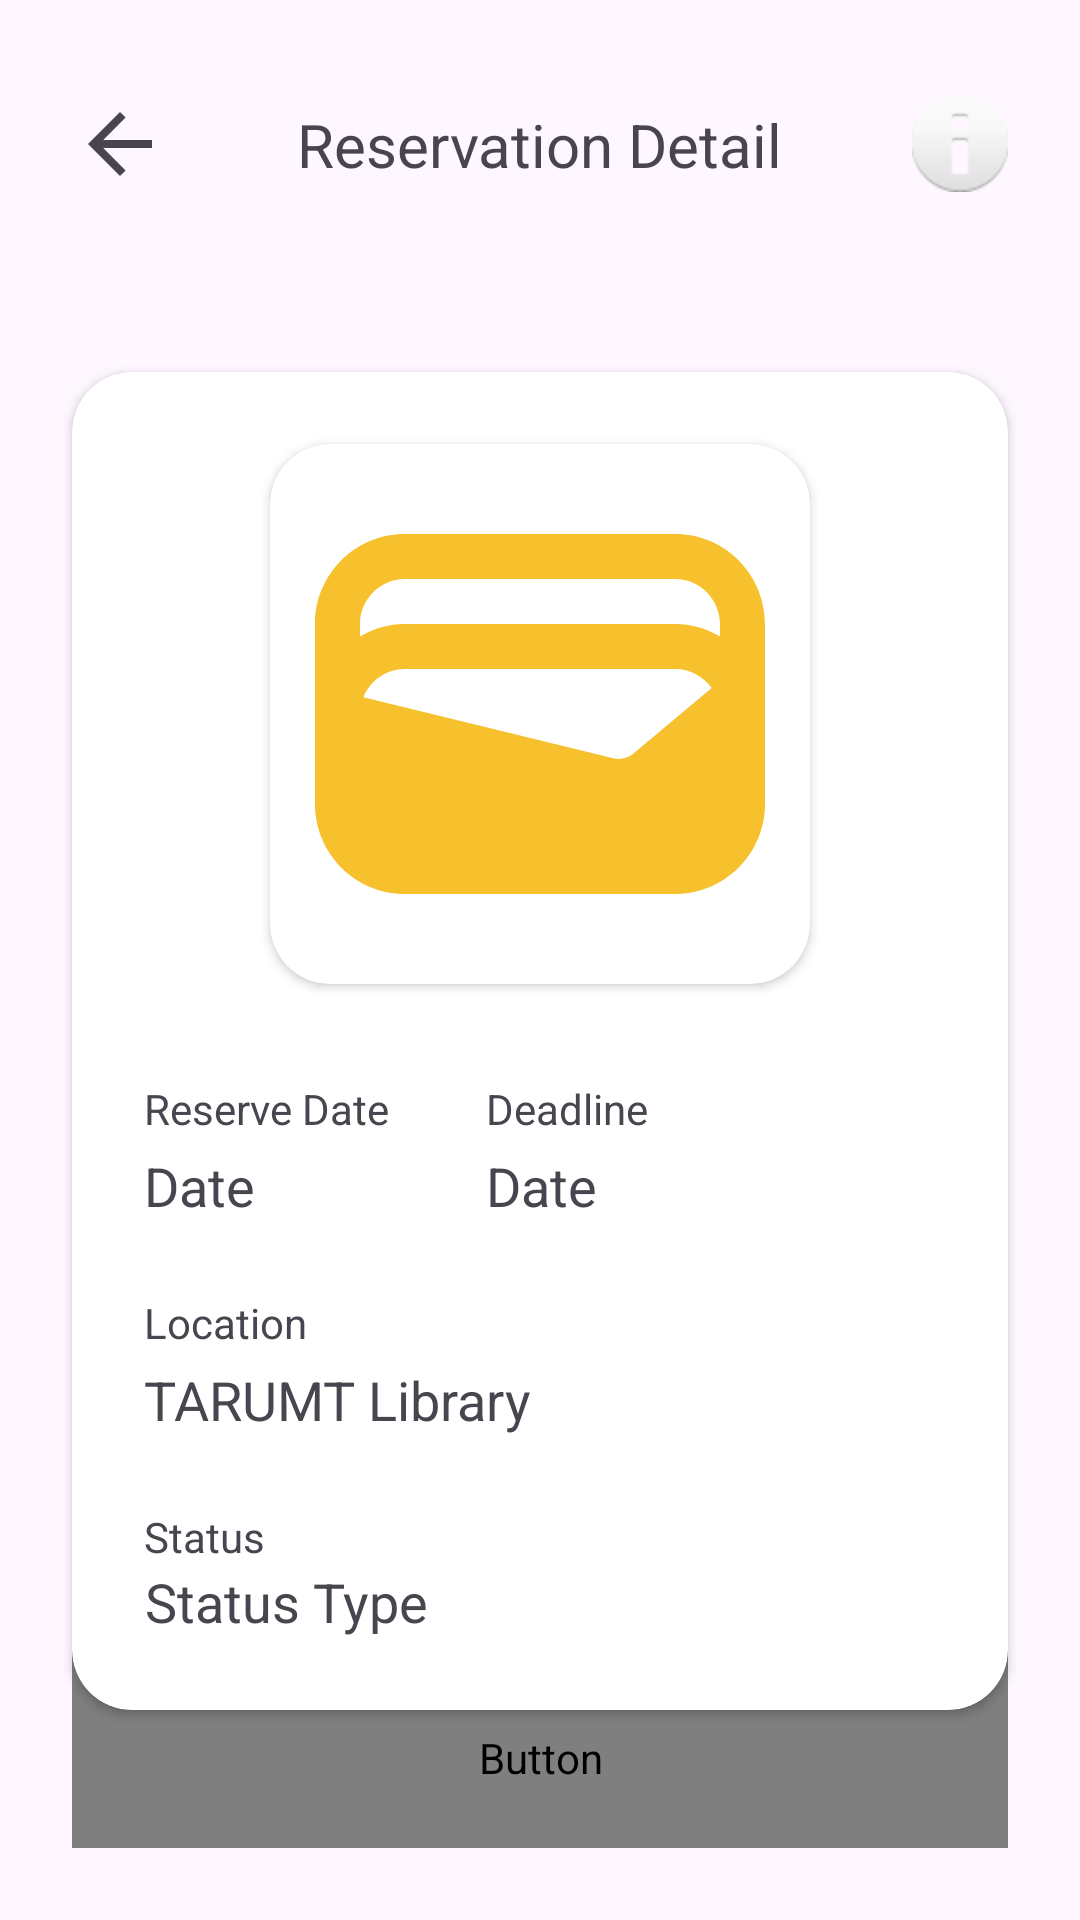

Where icons sit on this 1080 x 1920 app screen, as {"left": x1, "top": y1, "right": x2, "bottom": y2}:
info: {"left": 912, "top": 114, "right": 1008, "bottom": 192}
